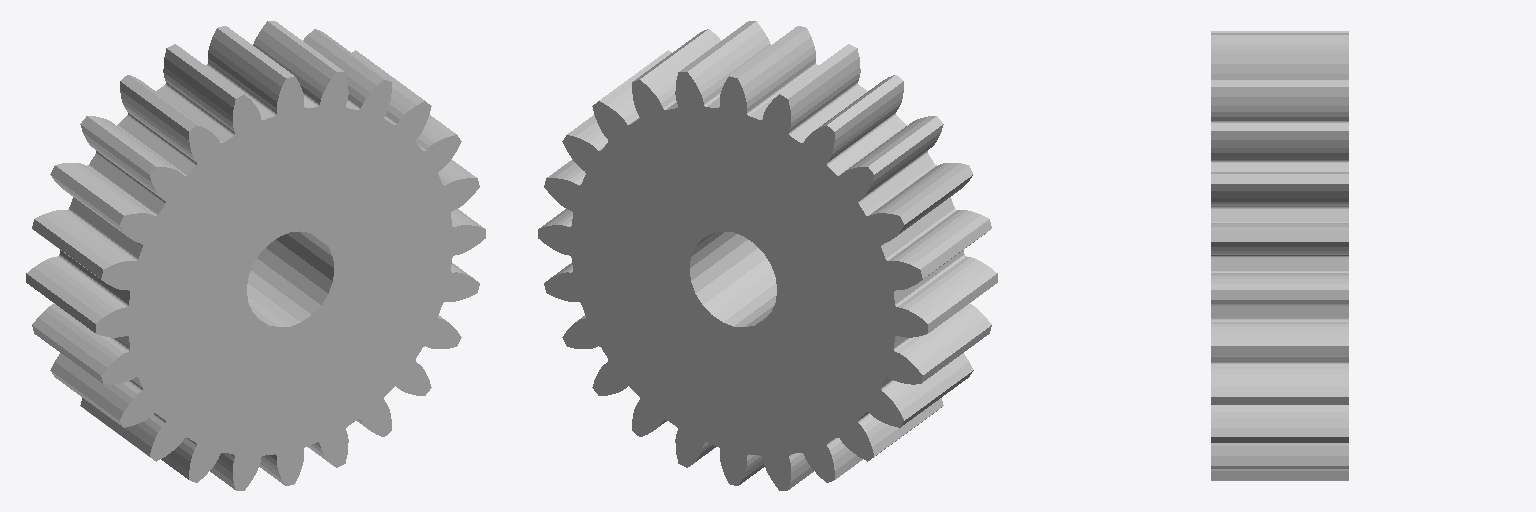
The picture shows the model from 3 angles: view 1: azimuth 30°, elevation 25°; view 2: azimuth 150°, elevation 25°; view 3: azimuth 270°, elevation 25°; orthographic projection.
Parts seen in each view (by area): view 1: engrenagem2; view 2: engrenagem2; view 3: engrenagem2.
Part boxes in pixels (bbox=[...]): engrenagem2: bbox=[26, 21, 485, 490]; engrenagem2: bbox=[538, 21, 997, 490]; engrenagem2: bbox=[1211, 31, 1348, 480].
Size of the model in its own units: 260 by 260 by 80.